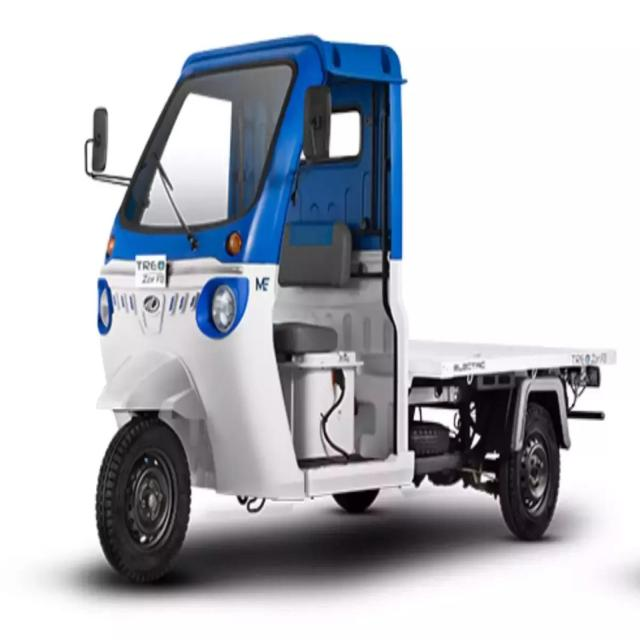autorickshaw: (96, 36, 615, 582)
